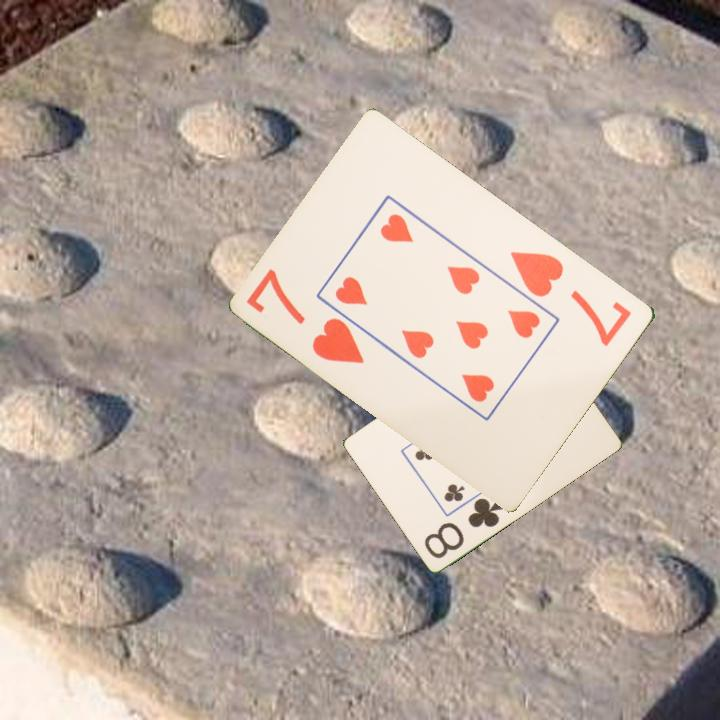7h: (506, 247, 635, 350), (243, 266, 368, 367)
8c: (421, 494, 506, 561)
